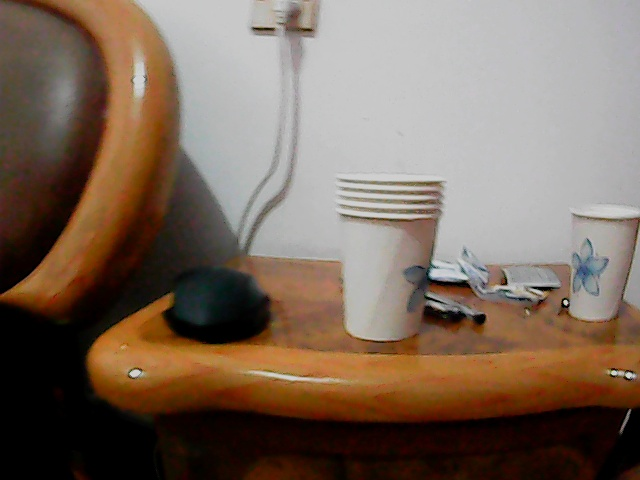cup: (333, 168, 443, 343)
mouse: (163, 268, 272, 342)
